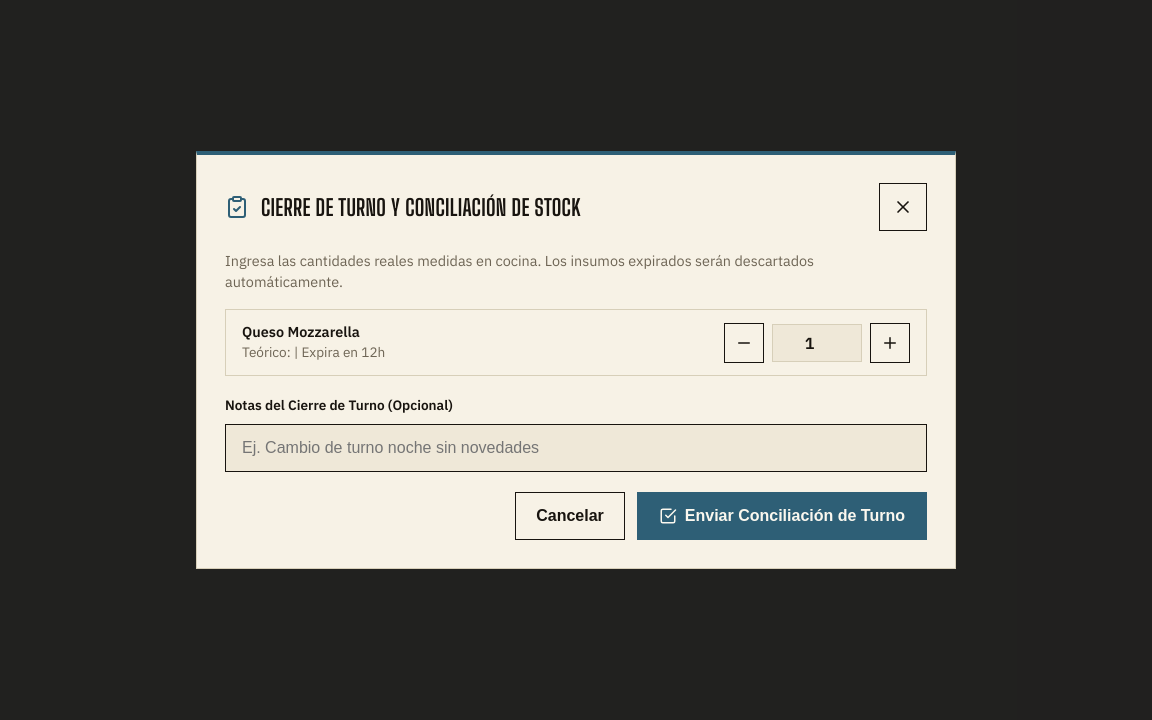
Scenario: TK-007-D: ShiftReconciliationWizard Component Suite › varianza negativa no critica tambien exige motivo antes de habilitar el envio (ADR-004)
The image size is (1152, 720).
Replace the text in the number field showing "1" with "0.8" at (817, 342), box x1=772 y1=324 x2=862 y2=362
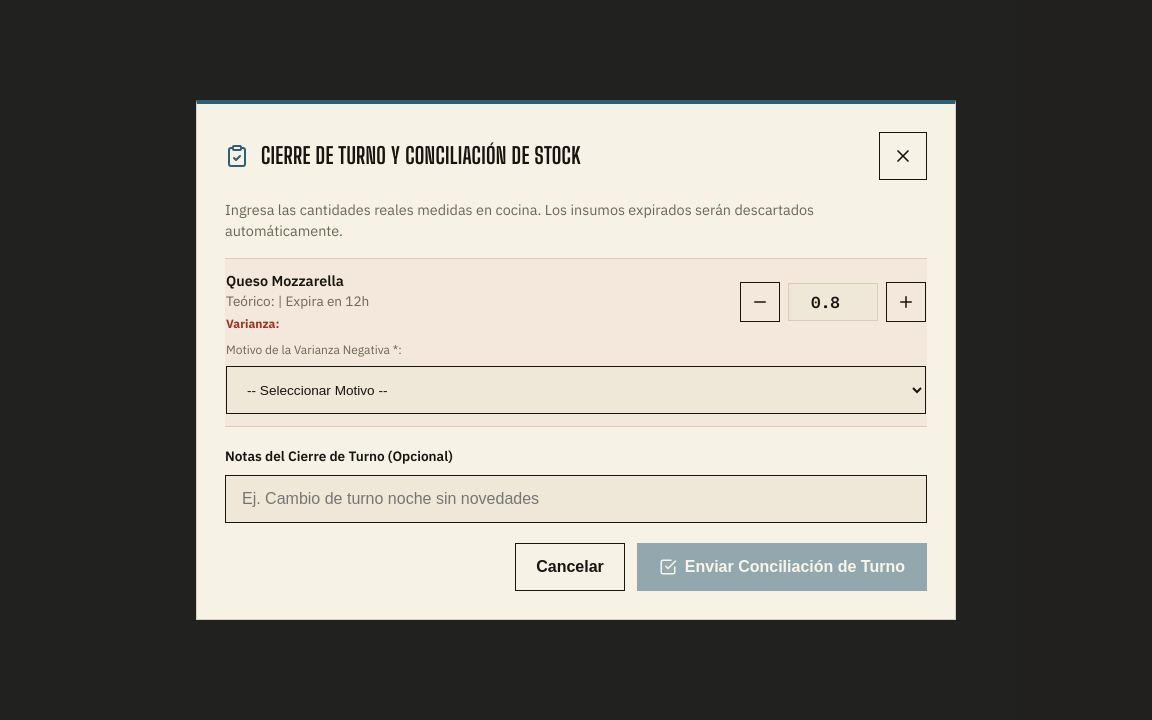
Check: the button "Enviar Conciliación de Turno" is disabled, box x1=637 y1=543 x2=927 y2=591
Select "Error de manipulación" in the dropdown labelled "Motivo de la Varianza Negativa *:" at (576, 390), box x1=226 y1=366 x2=926 y2=414
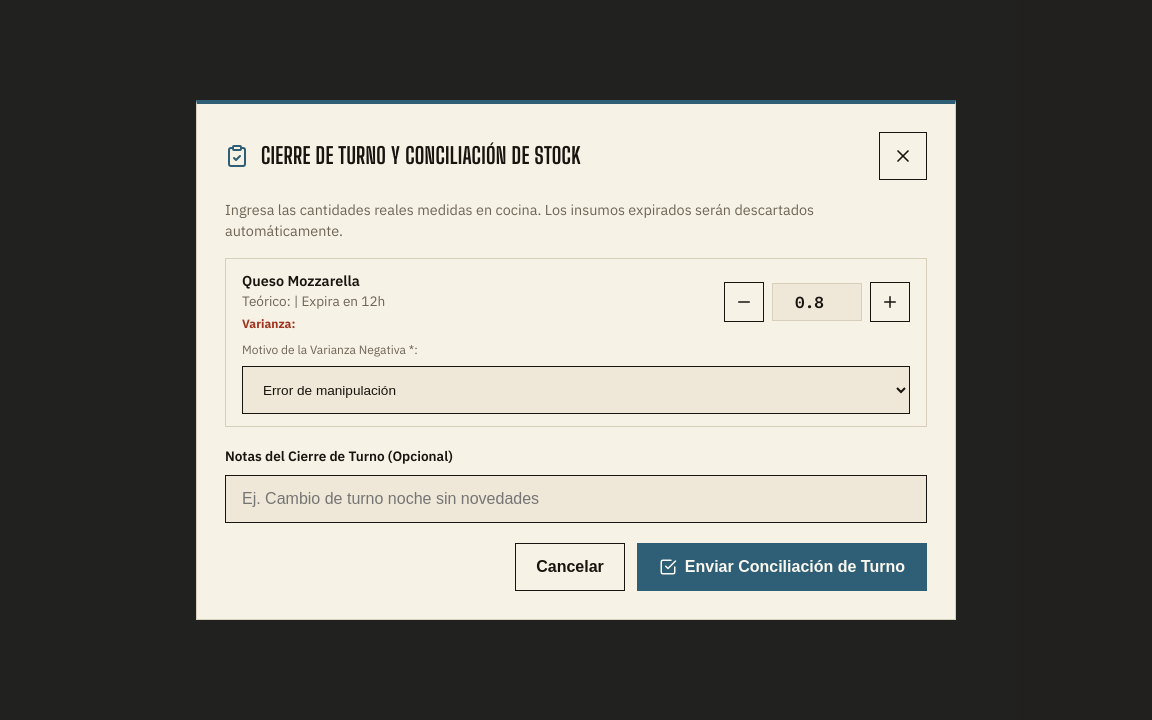
Check: the button "Enviar Conciliación de Turno" is enabled, box x1=637 y1=543 x2=927 y2=591
